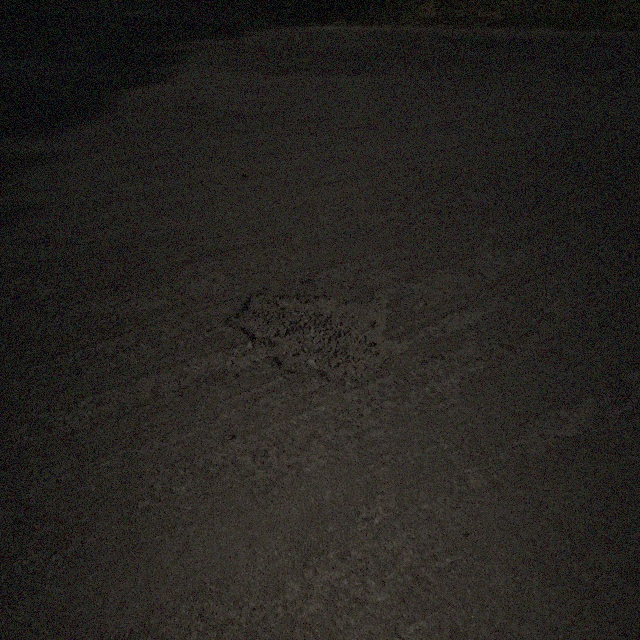pothole: (220, 285, 410, 384)
